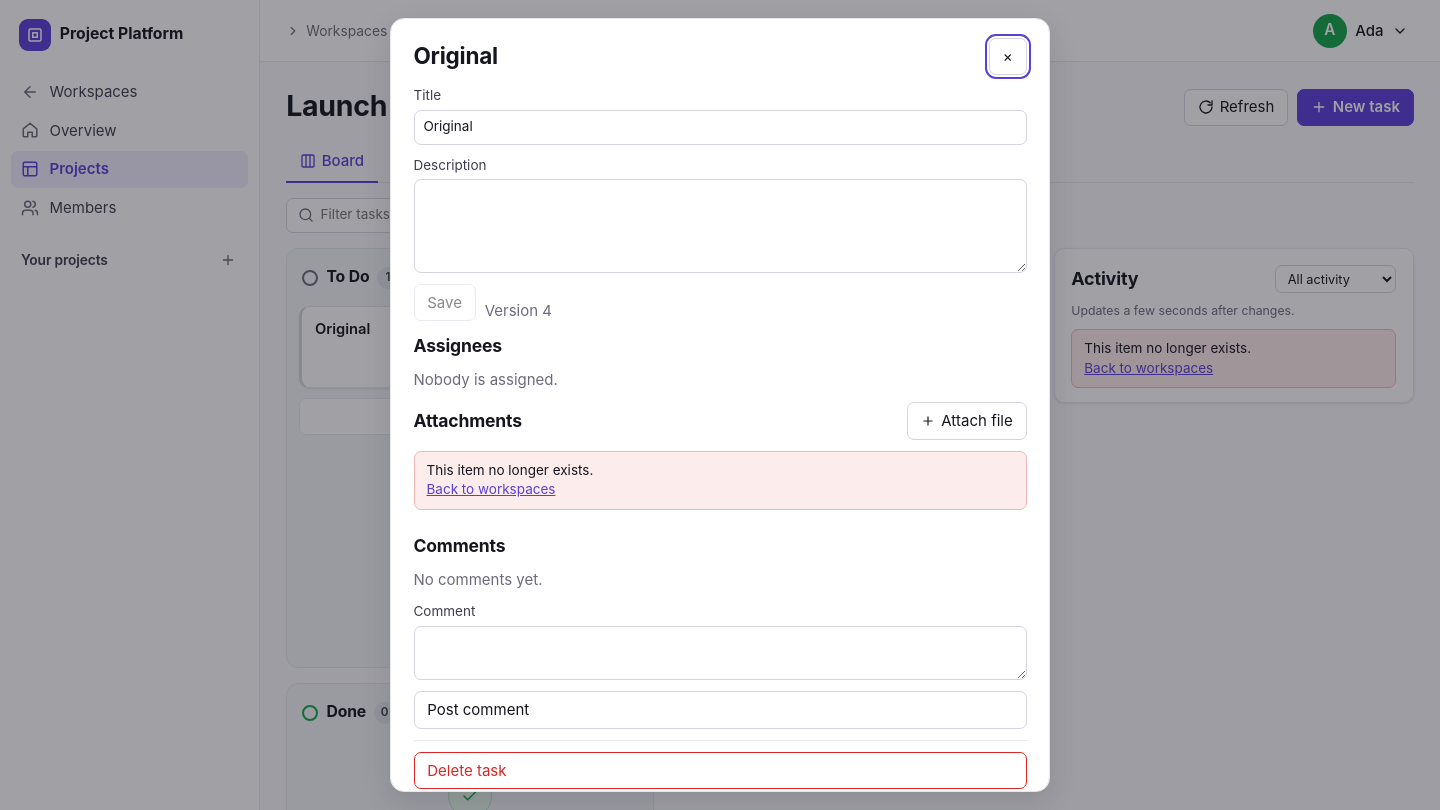
it: stale edit (409 VERSION_CONFLICT) › shows the conflict, refetches the winner, keeps the draft, and does not resubmit
Replace the text in the field labelled "Title" with "A title": (720, 127) [414,110,1026,145]
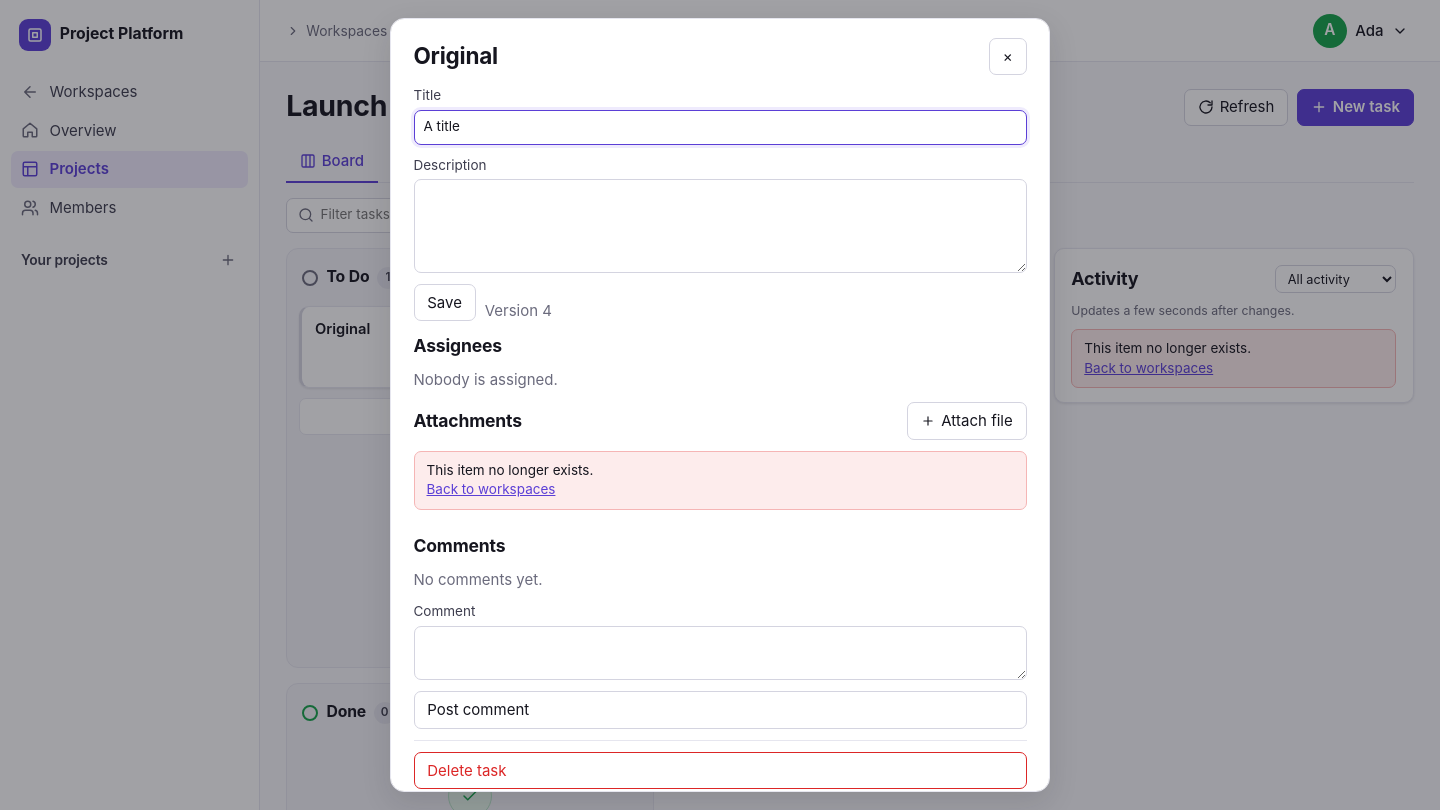
Click the button "Save": (445, 303) [414,284,476,322]
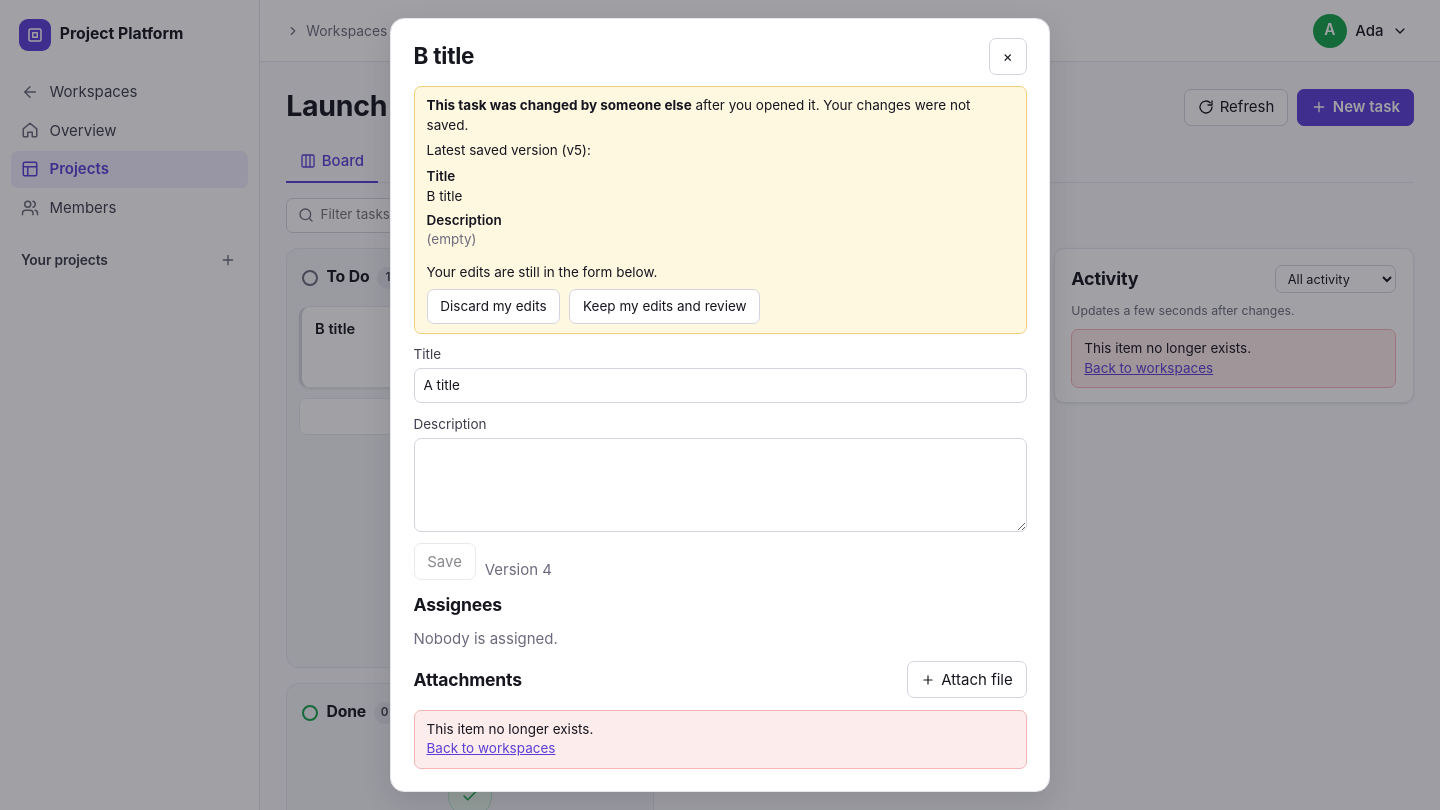
Check: the message that starts with "This task was changed by someone else" is shown, box [426,97,692,113]
Check: the message that starts with "This task was changed by someone else" shows "not saved", box [426,97,970,133]
Check: the text with test id "latest-title" reads "B title", box [426,188,462,204]
